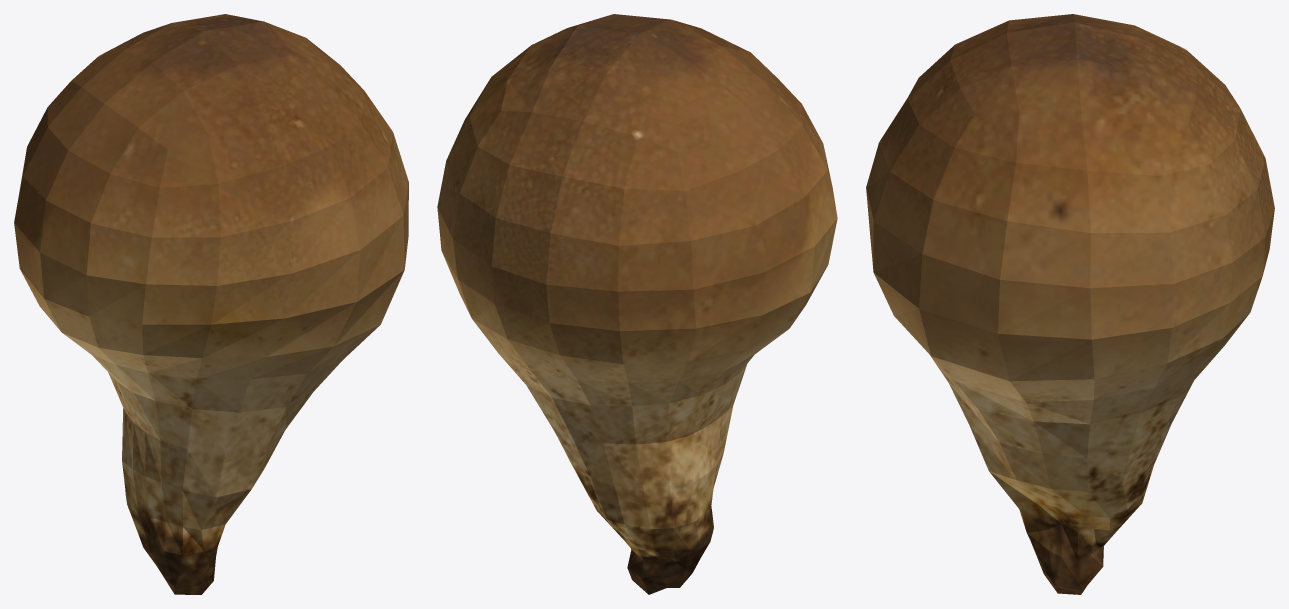
The model's file is P_Jituigu_05.obj.
3 views of the same model, side by side, from view 1: azimuth 30°, elevation 25°; view 2: azimuth 150°, elevation 25°; view 3: azimuth 270°, elevation 25° (orthographic). The views are drawn at different scales.
Bounding box in the file's own units: 0.1392 × 0.2129 × 0.1363.
Materials: 1 (1 with a texture image).
